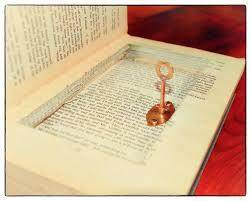Paper: (6, 9, 244, 193)
